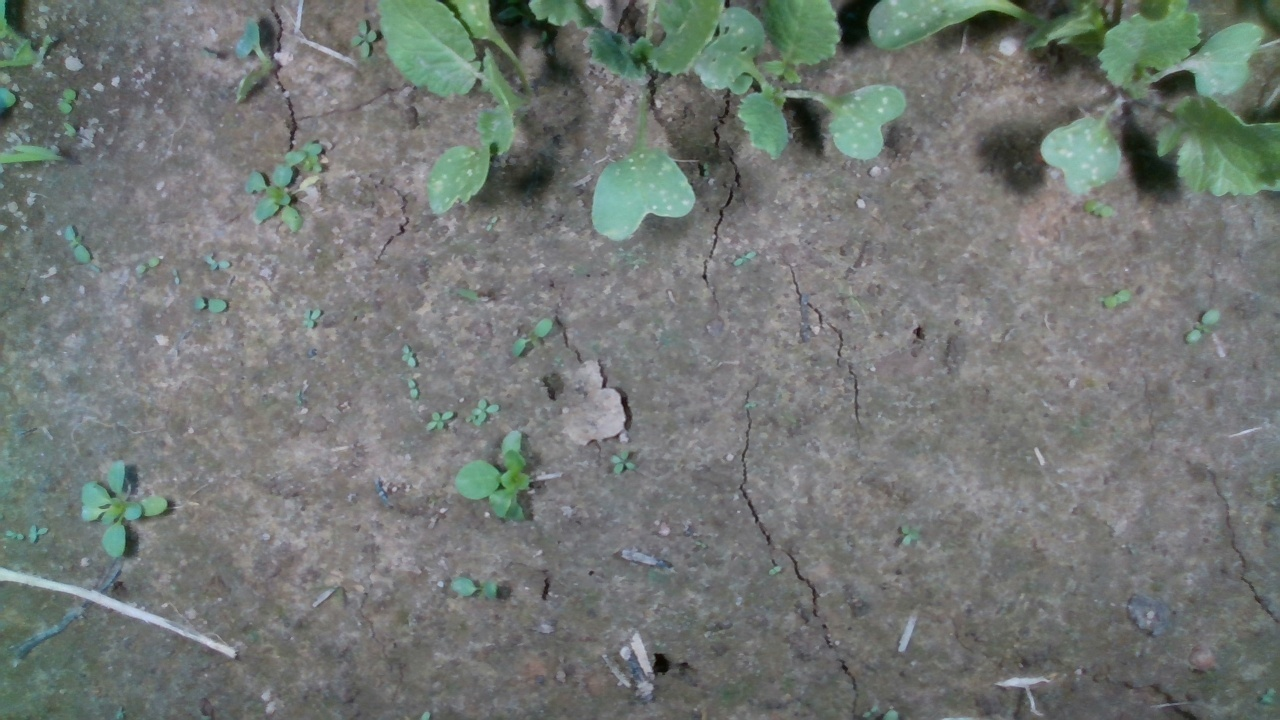weed: (508, 316, 555, 360), (1183, 306, 1221, 344), (447, 575, 500, 601), (62, 224, 94, 265), (348, 17, 378, 59), (189, 294, 230, 316), (608, 446, 638, 476), (422, 408, 456, 433), (1083, 197, 1117, 221), (1102, 287, 1132, 310), (300, 303, 322, 331), (132, 254, 162, 274), (56, 87, 78, 114), (899, 522, 921, 547), (28, 521, 50, 545), (399, 342, 418, 368), (731, 249, 758, 267), (404, 377, 420, 403), (2, 527, 26, 543), (170, 265, 182, 286), (765, 564, 783, 576)
